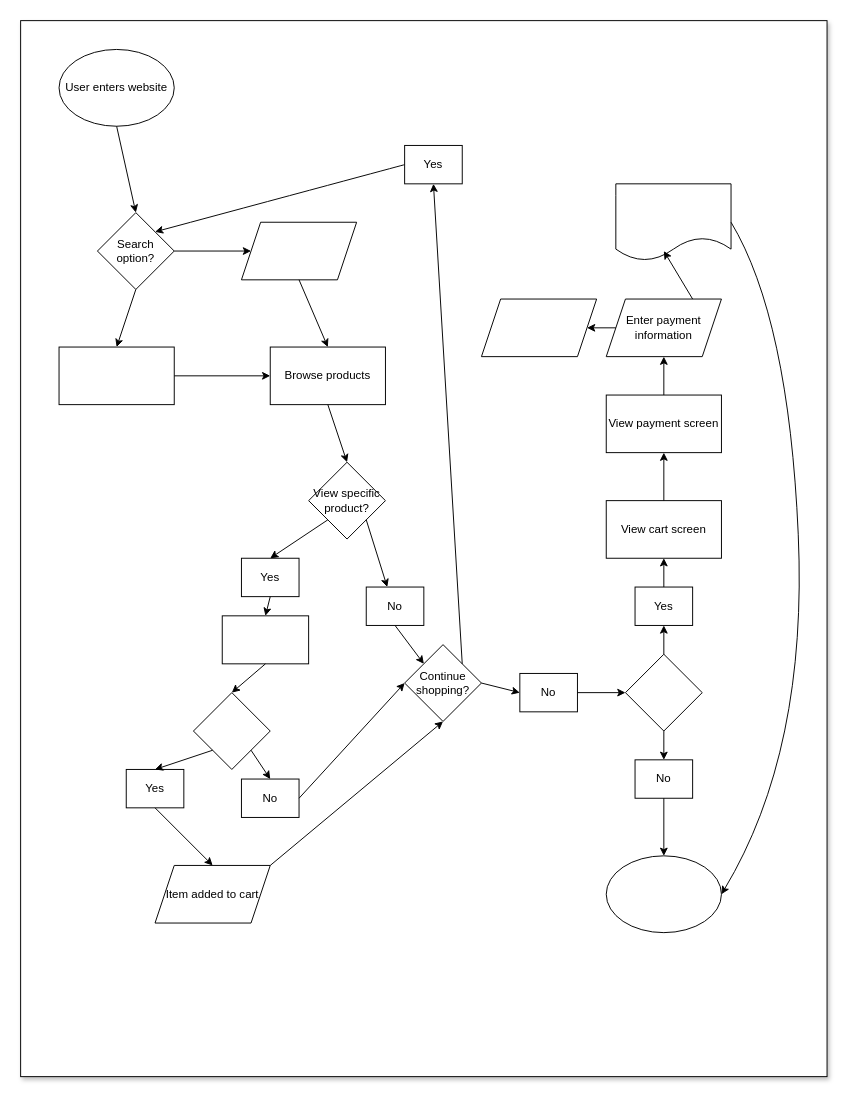
This 850x1100 diagram has some shape labels left out. Here are the shapes that lost their labels. From the top down, the centre of each, then its label:
At (x=673, y=222): "Order confirmation screen".
At (x=298, y=250): "Use search bar to provide input".
At (x=538, y=327): "Send email".
At (x=116, y=375): "No search".
At (x=265, y=639): "Product webpage".
At (x=663, y=692): "Checkout?".
At (x=231, y=730): "Add to cart?".
At (x=663, y=894): "Leave website".
